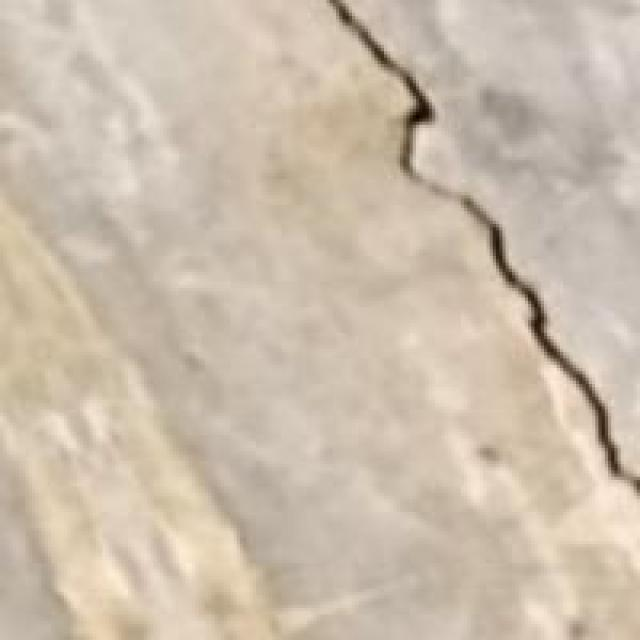Crack: (314, 0, 637, 509)
